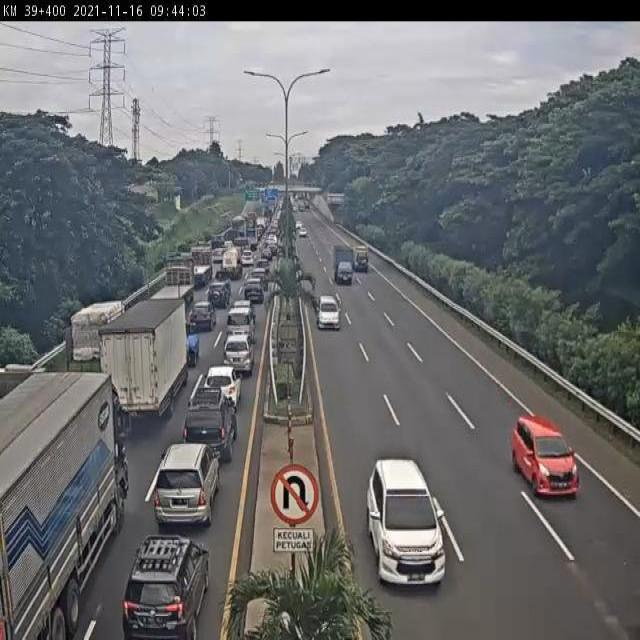car: (362, 452, 450, 595), (120, 526, 214, 640), (508, 408, 583, 499), (150, 439, 221, 528), (182, 385, 239, 467), (204, 362, 243, 414), (222, 331, 255, 376), (224, 308, 258, 345), (317, 292, 343, 339), (190, 300, 217, 333), (206, 278, 231, 310), (241, 276, 265, 304)
truck-l-: (0, 368, 131, 640)
truck-m-: (102, 297, 188, 424), (69, 299, 131, 381), (332, 244, 355, 288)
